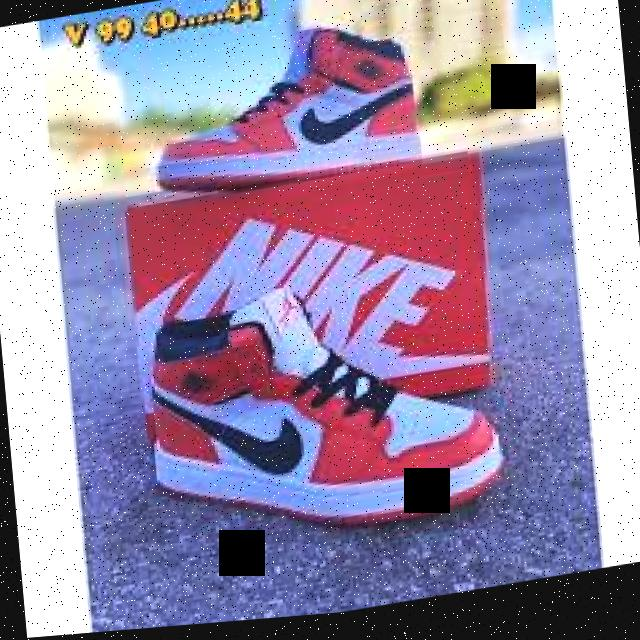shoes: (139, 268, 512, 565), (142, 8, 466, 210)
